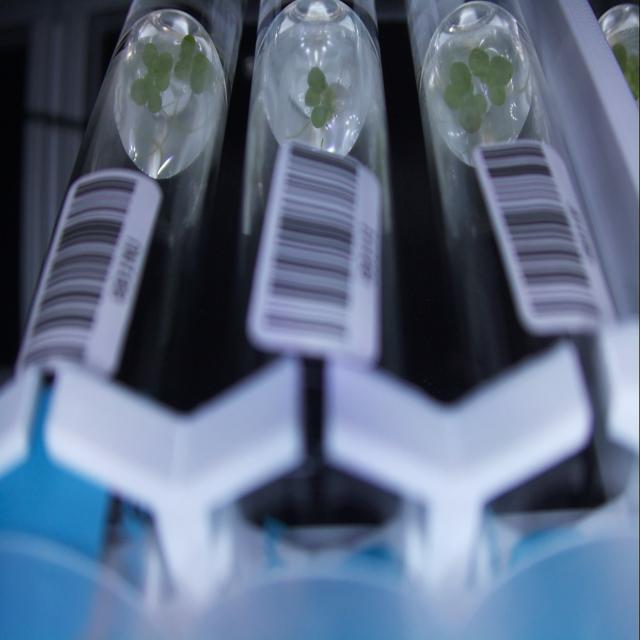Lemna-Gibba: (444, 48, 490, 133), (174, 33, 209, 93), (130, 65, 170, 113), (488, 55, 514, 107), (142, 43, 172, 73), (315, 82, 336, 124), (305, 67, 326, 107), (311, 105, 328, 128)
